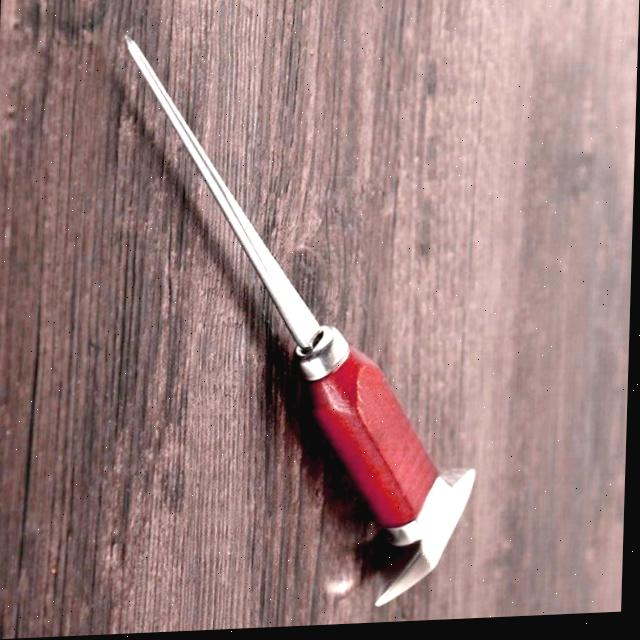ice pick: (106, 21, 491, 619)
